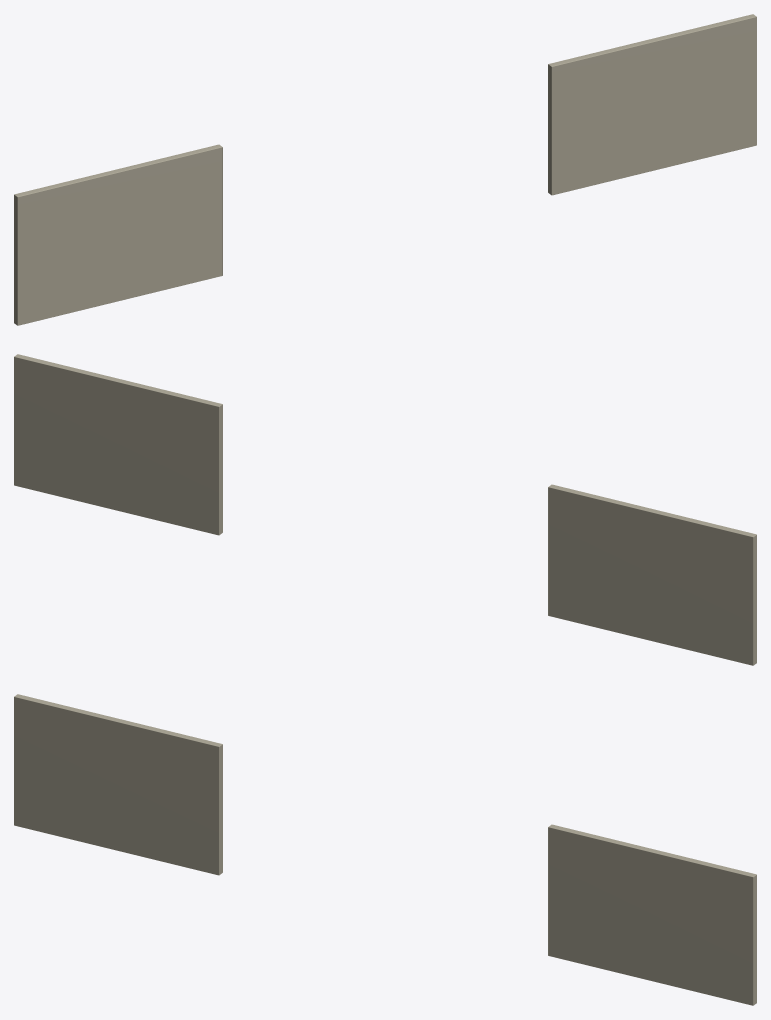
Rendered from Medical_RoomDividers62.fbx.
3 renders of one model, top to bottom at view 1: azimuth 30°, elevation 25°; view 2: azimuth 150°, elevation 25°; view 3: azimuth 330°, elevation 25°, orthographic.
Parts seen in each view (by area): view 1: Medical_RoomDividers62; view 2: Medical_RoomDividers62; view 3: Medical_RoomDividers62.
Part boxes in pixels (box(x1,y1,x2,y2)): Medical_RoomDividers62: box(14, 14, 756, 325); Medical_RoomDividers62: box(14, 354, 756, 665); Medical_RoomDividers62: box(14, 694, 756, 1005).
Size of the model in its own units: 1800 by 300 by 16.
